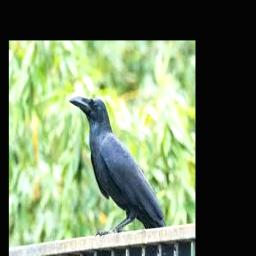Crow: (69, 95, 174, 255)
